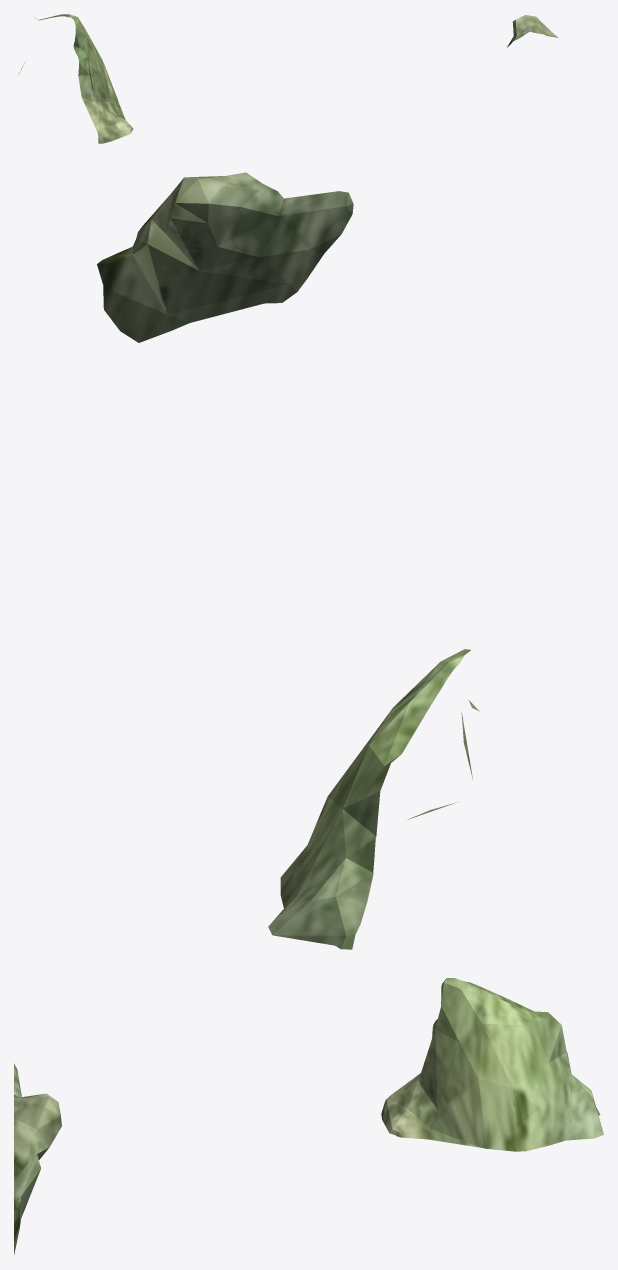
The picture shows the model from 3 angles, top to bottom: view 1: azimuth 30°, elevation 25°; view 2: azimuth 150°, elevation 25°; view 3: azimuth 270°, elevation 25°; orthographic projection. The views are drawn at different scales.
Bounding box in the file's own units: 4.99 × 2.05 × 5.63.
Materials: 1 (1 with a texture image).
